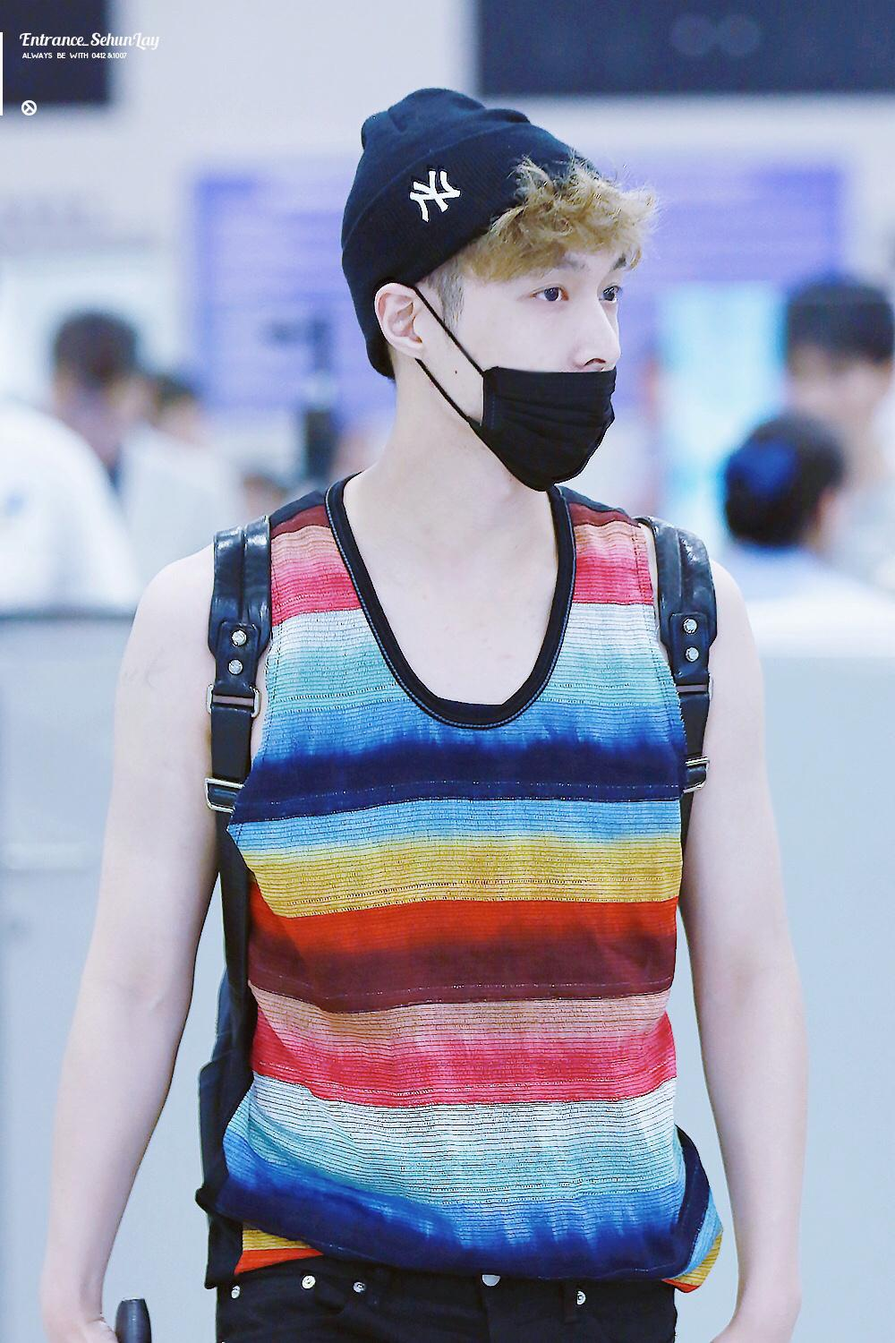WRONG: (469, 237, 630, 475)
